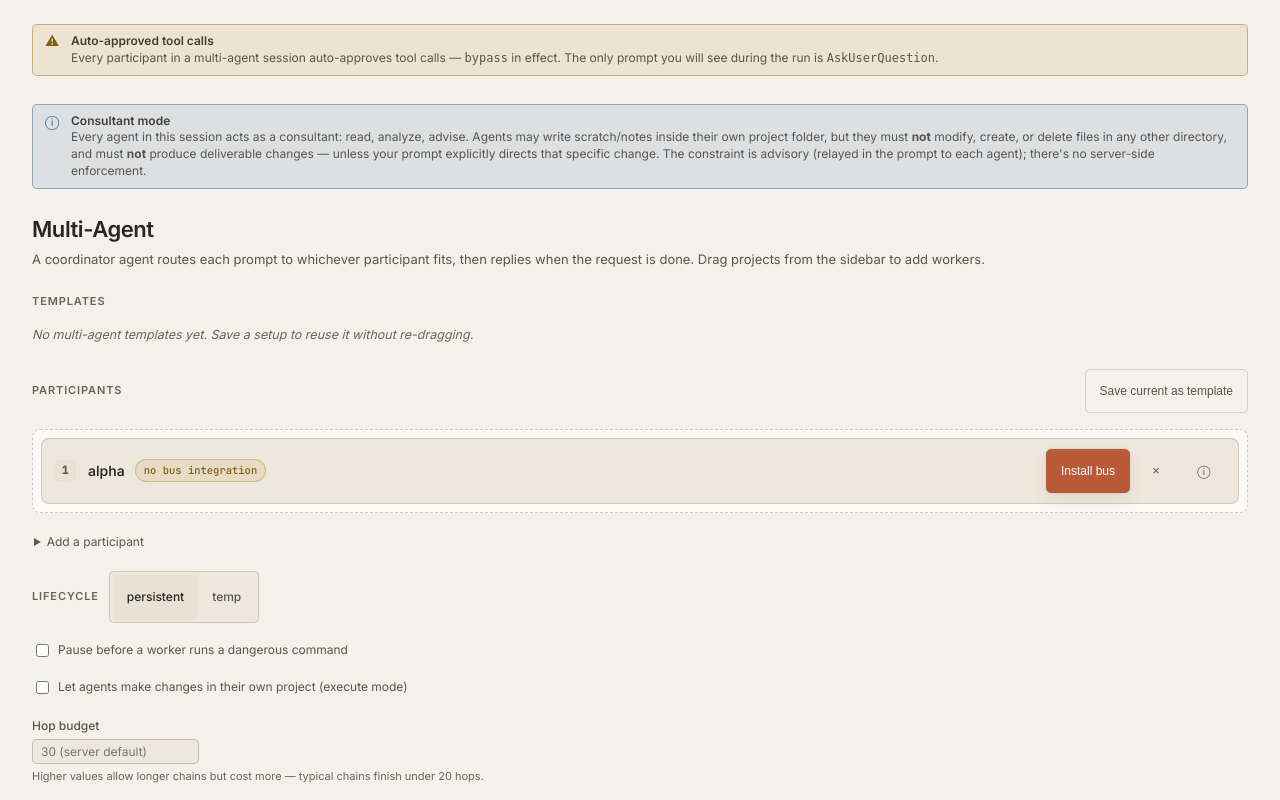
Test case: bus install keeps its gate, now in-app (U16) › clicking Install bus opens a dialog and does NOT install yet
Click the button "Install bus": x=1088, y=470 [1046,448,1130,492]
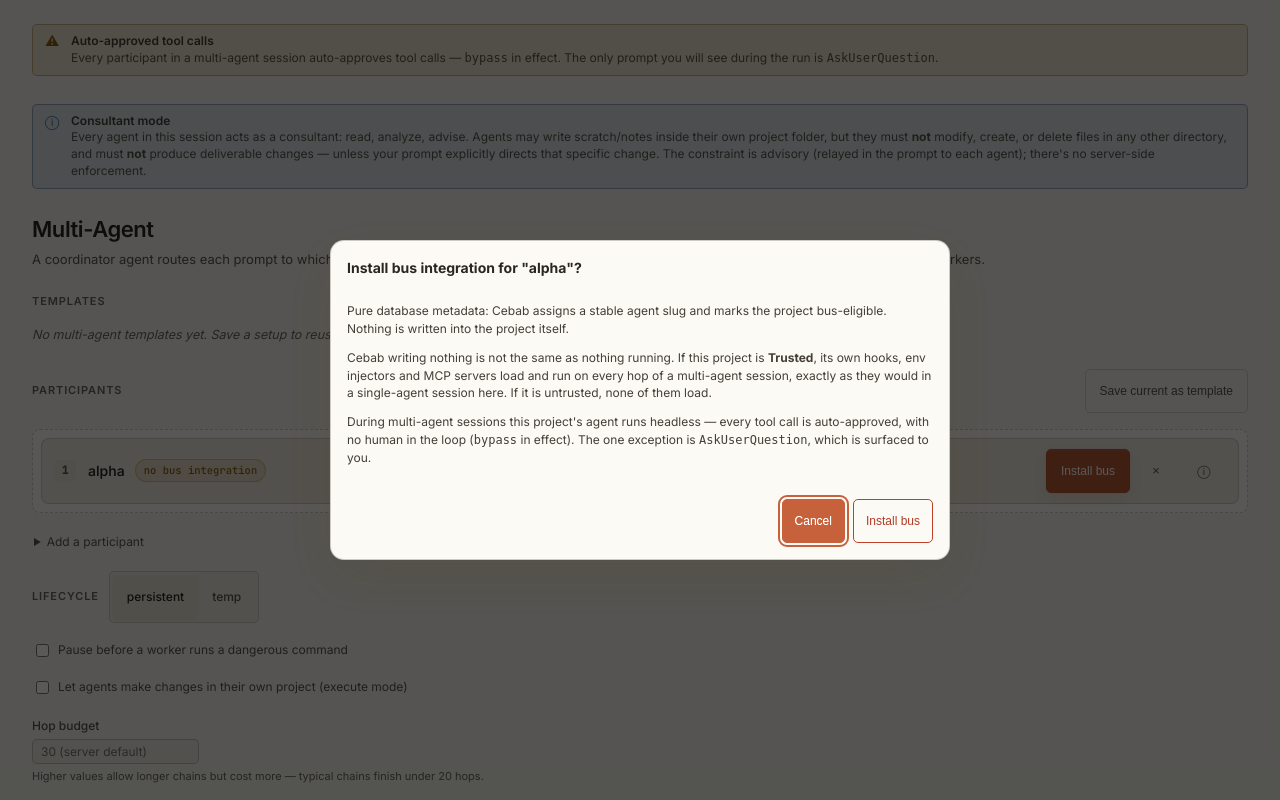
Check: the dialog with class "gate-modal-overlay" is shown
